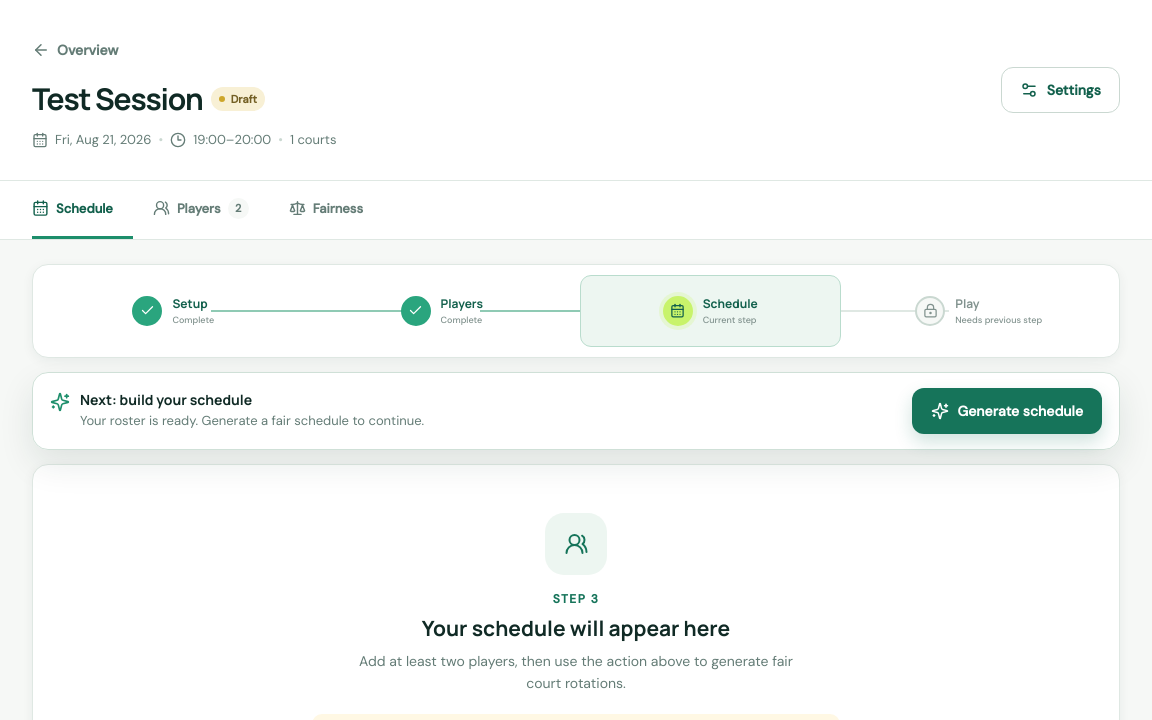
it: SessionPage lifecycle › opens the add-player dialog from the Players step primary action
This screenshot has width=1152, height=720.
Click the button "Players Complete".
click(442, 310)  # box left=312, top=274, right=572, bottom=346
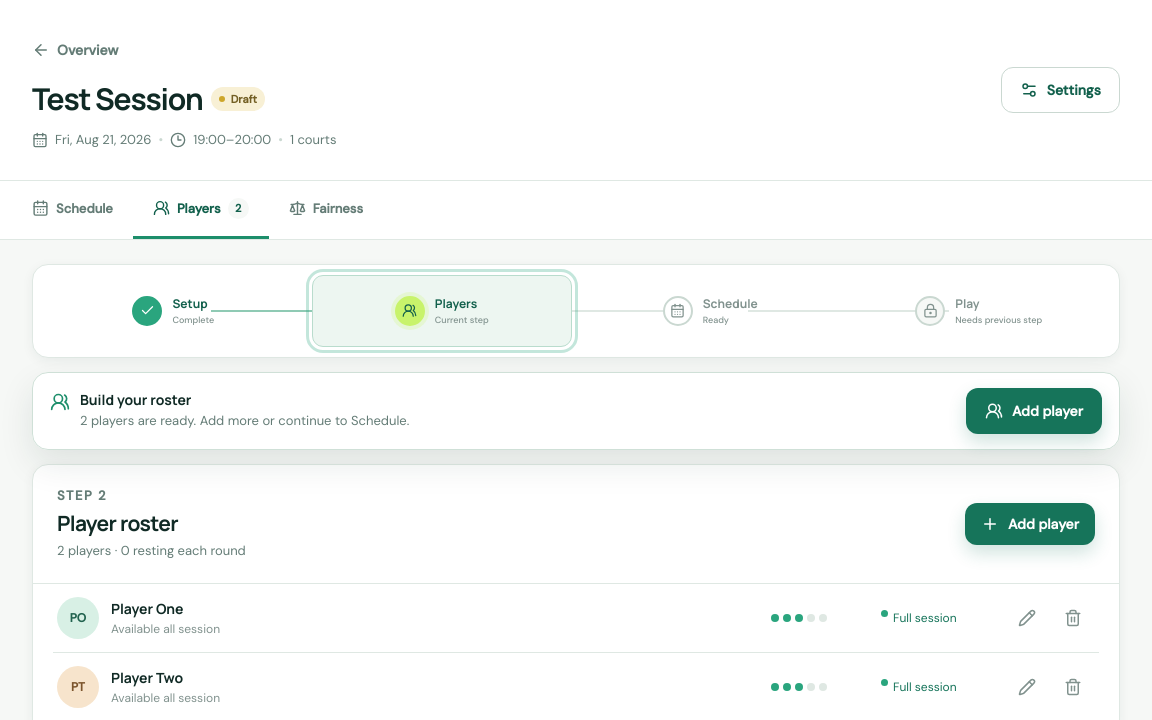
Click the button "Add player" in the row of "Build your roster".
click(1034, 410)  # box left=966, top=388, right=1102, bottom=434
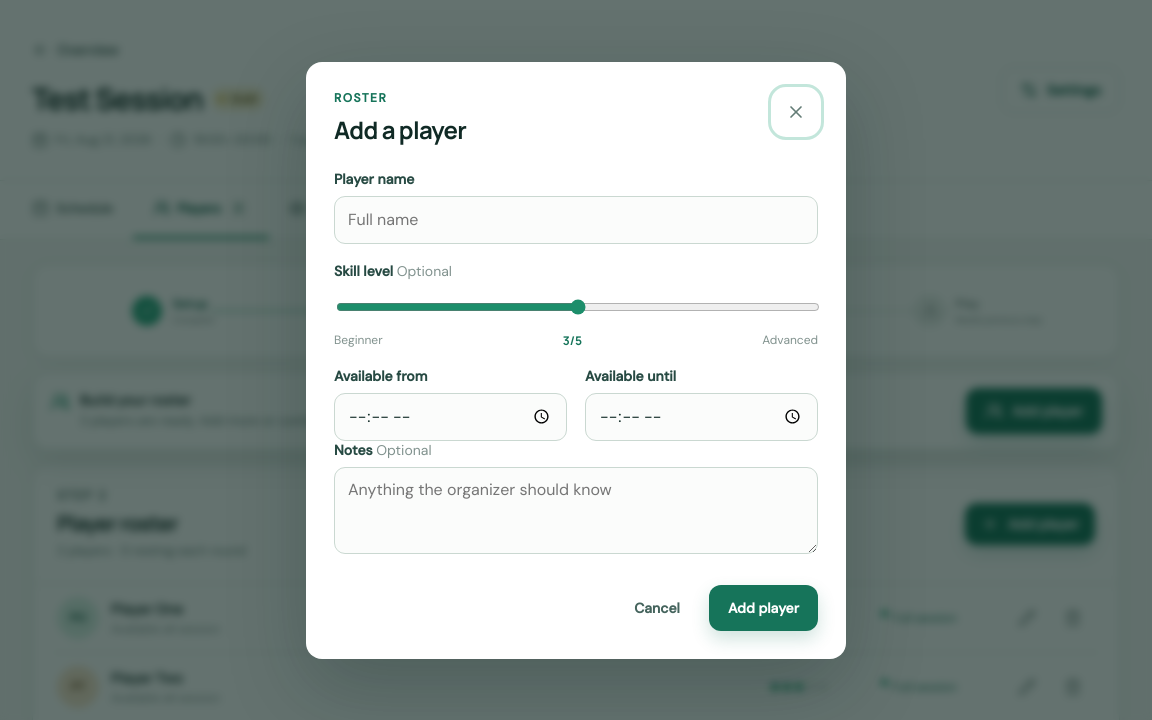
Result: the dialog "Add a player" is shown at left=306, top=62, right=846, bottom=658
